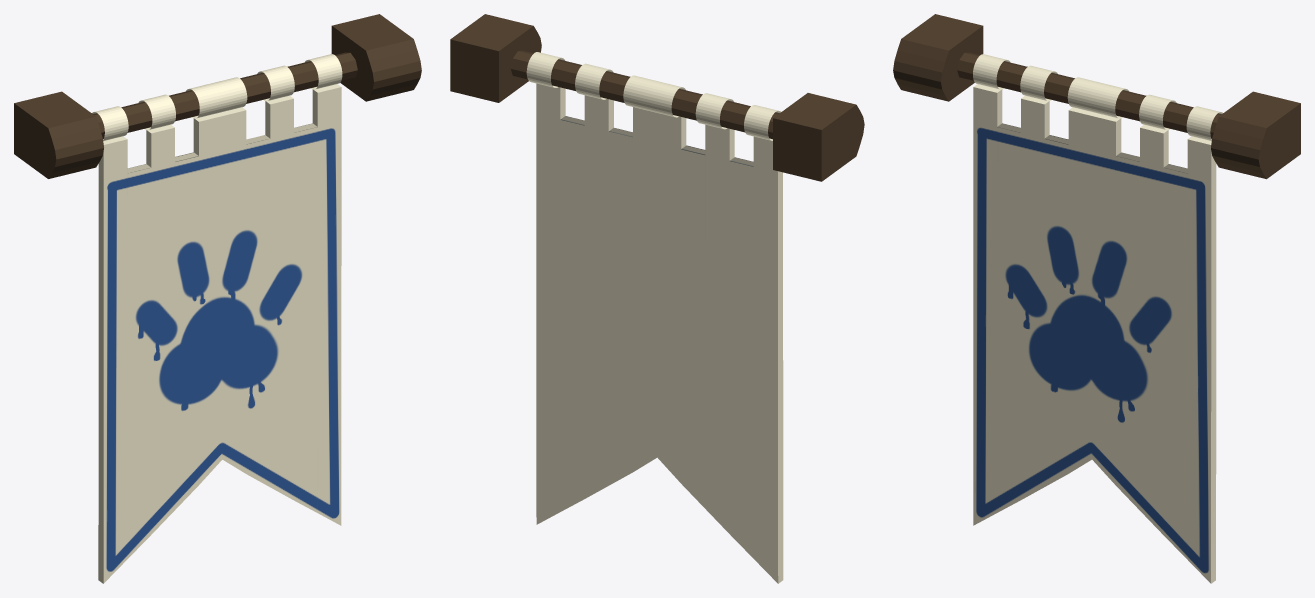
The model's file is wall_banner.fbx.
The picture shows the model from 3 angles, left to right: view 1: azimuth 30°, elevation 25°; view 2: azimuth 150°, elevation 25°; view 3: azimuth 330°, elevation 25°; orthographic projection.
Visible parts, largest first — view 1: Circle; view 2: Circle; view 3: Circle.
Part boxes in pixels (x1=…): Circle: x1=14, y1=14, x2=421, y2=583; Circle: x1=450, y1=14, x2=864, y2=583; Circle: x1=893, y1=14, x2=1300, y2=583.
Bounding box in the file's own units: 75 × 93.61 × 15.
